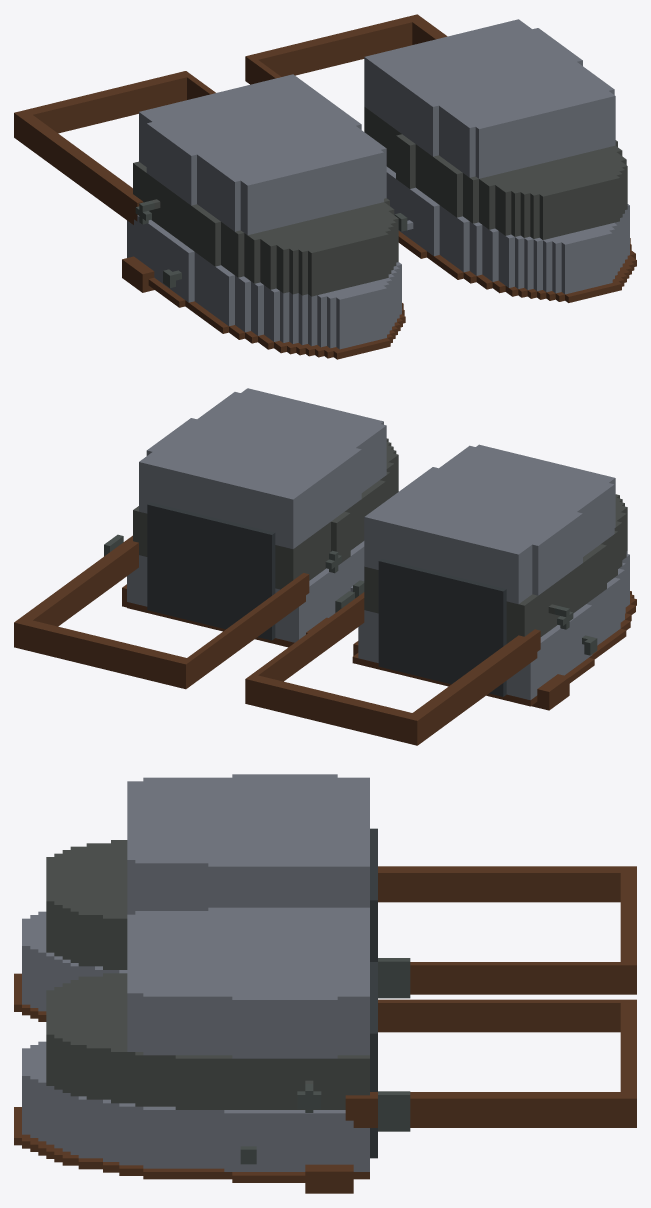
Rendered from hardened_sheet_sabatons.glb.
3 views of the same model, one above another, from view 1: azimuth 30°, elevation 25°; view 2: azimuth 150°, elevation 25°; view 3: azimuth 270°, elevation 25° (orthographic). The views are drawn at different scales.
Visible parts, largest first — view 1: hardened_sheet_sabatons:compound; view 2: hardened_sheet_sabatons:compound; view 3: hardened_sheet_sabatons:compound.
Part boxes in pixels (<box>): hardened_sheet_sabatons:compound: <box>14,14,636,359</box>; hardened_sheet_sabatons:compound: <box>14,388,636,745</box>; hardened_sheet_sabatons:compound: <box>14,774,636,1193</box>.
Bounding box in the file's own units: 0.288 × 0.1 × 0.308.
